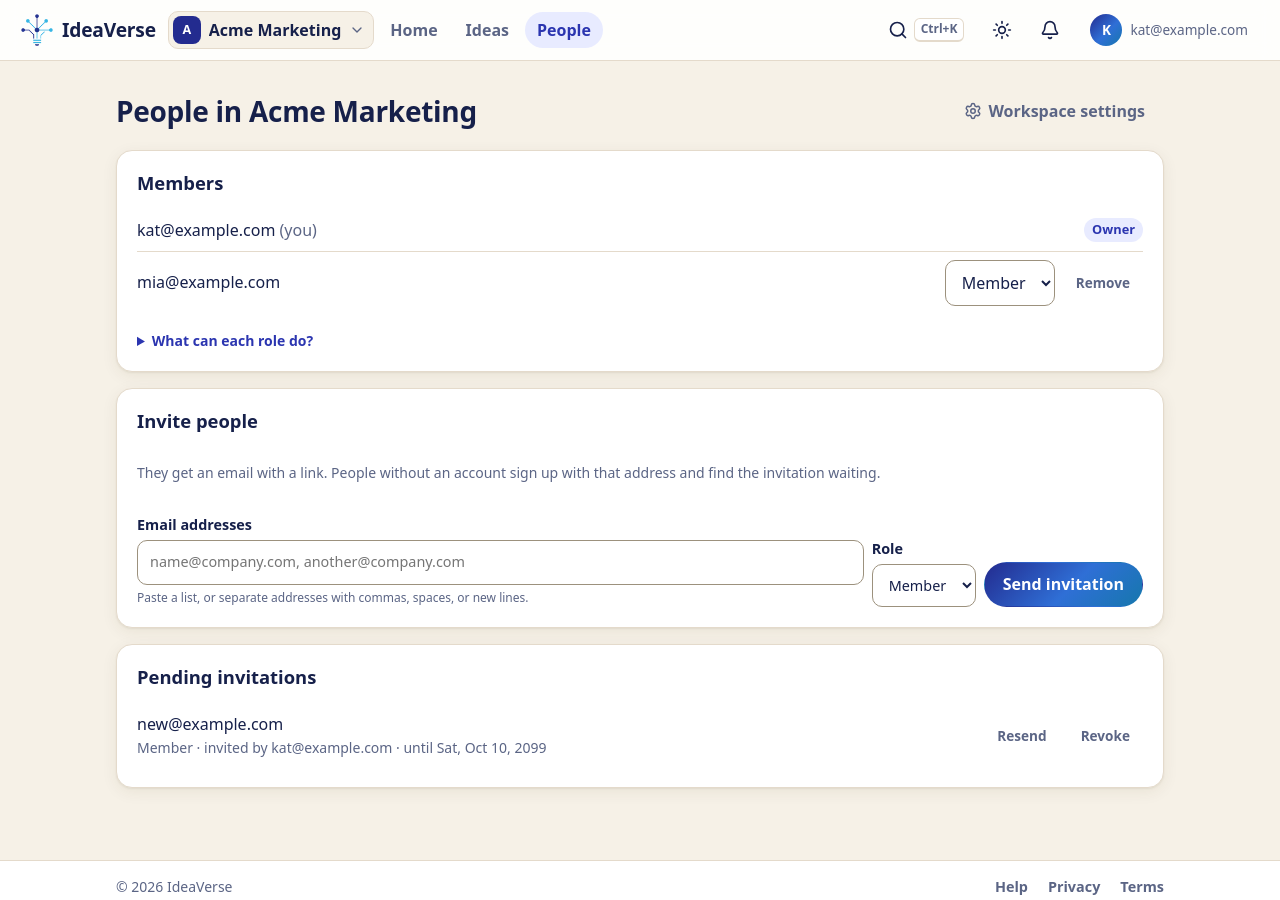
Test: PeoplePage › sends nothing when every address has a problem
This screenshot has width=1280, height=900.
Type "mia@example.com" into the field labelled "Email addresses" at (500, 562), box [144, 547, 857, 578]
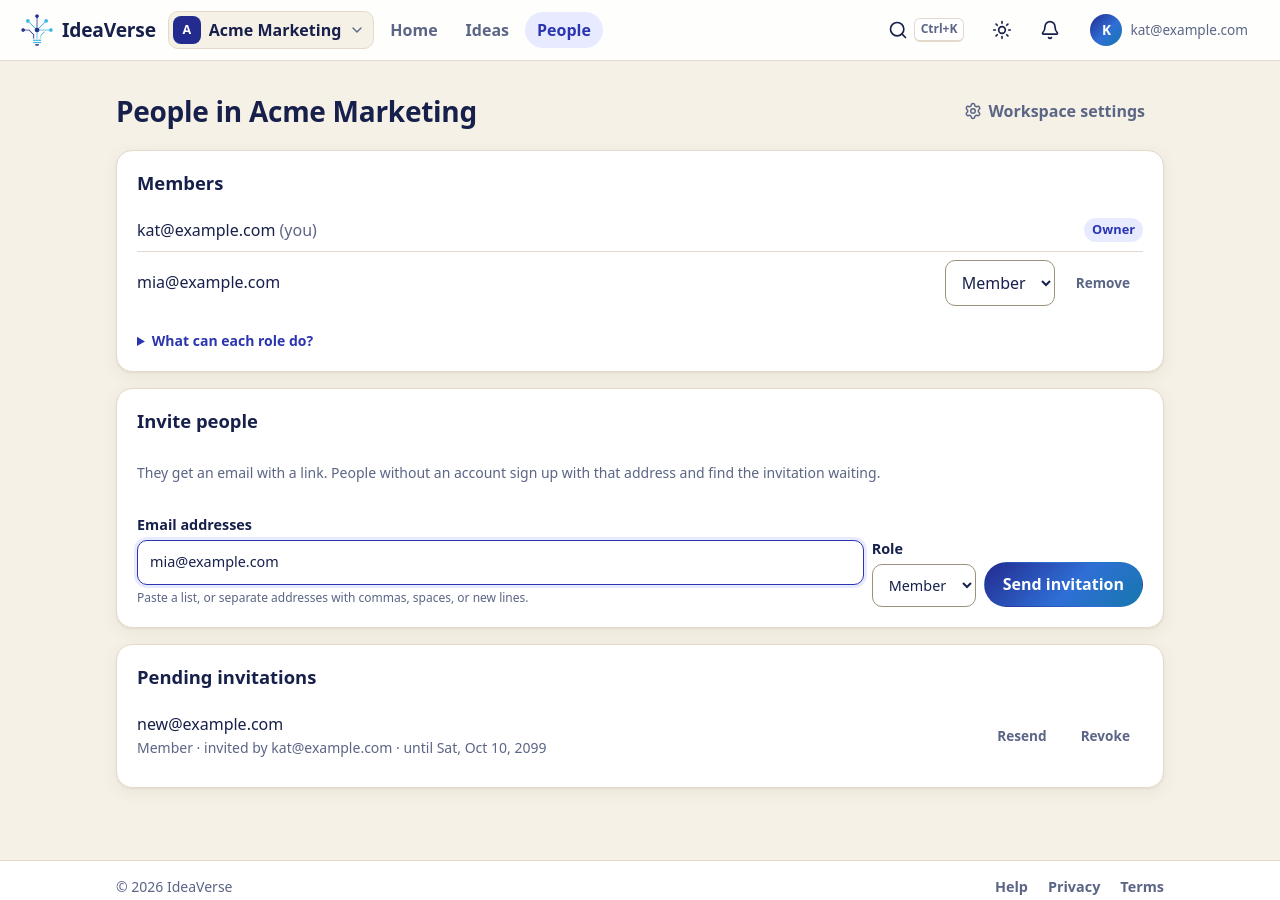
Click the button "Send invitation" at (1063, 585), box [984, 562, 1143, 607]
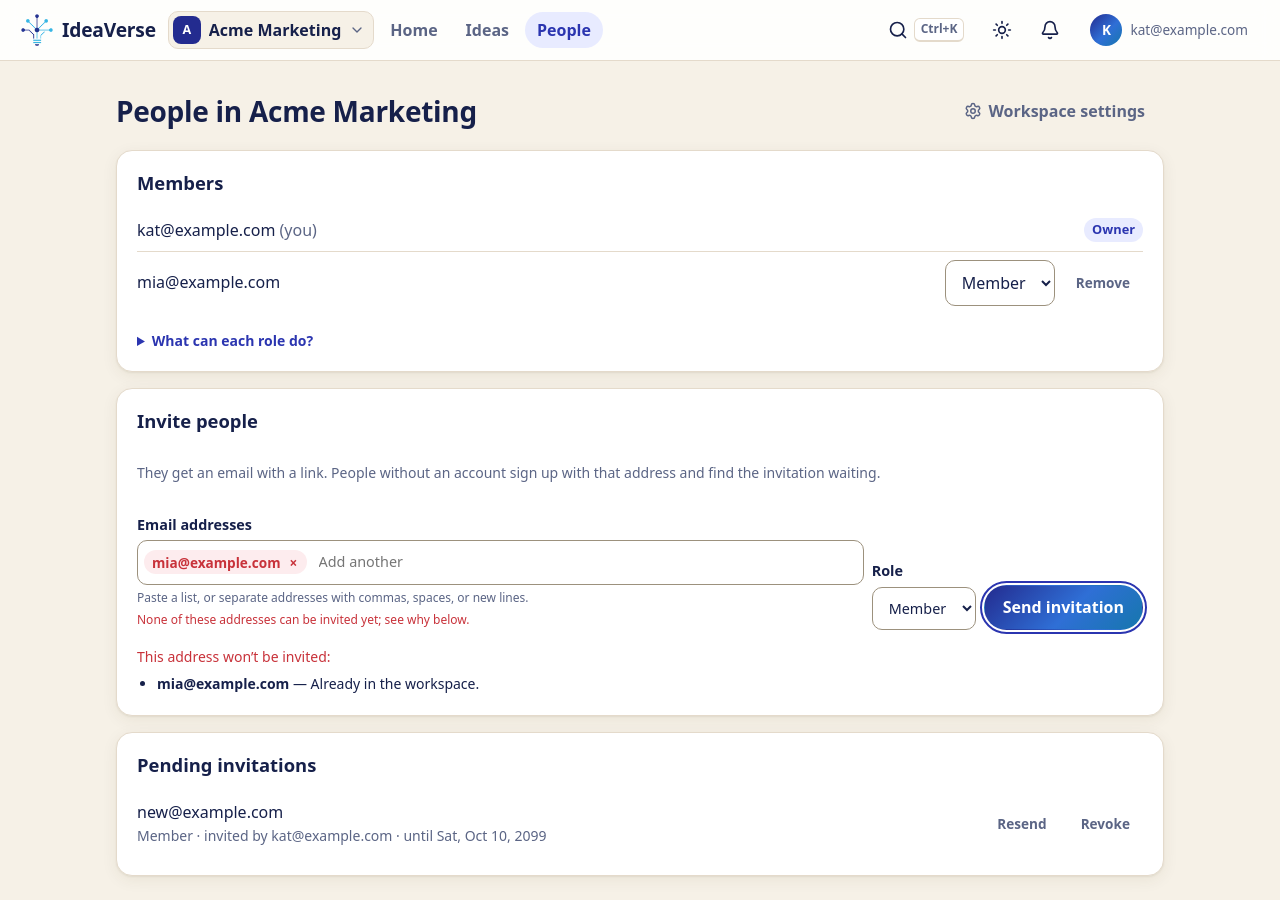
Expected: the list item "Already in the workspace." is shown, [311, 674, 479, 694]
